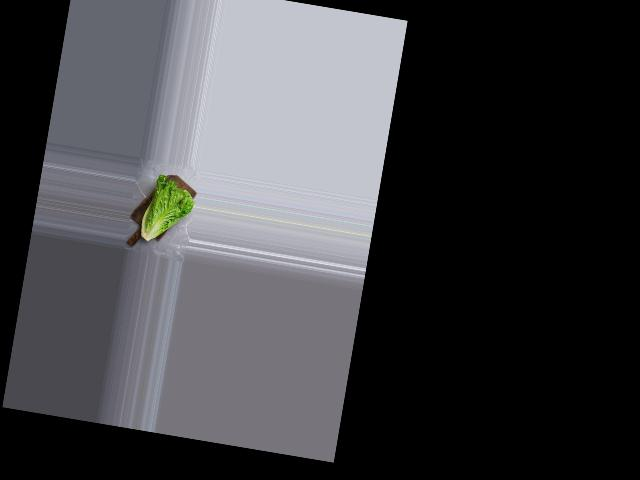lettuce: (131, 171, 197, 250)
